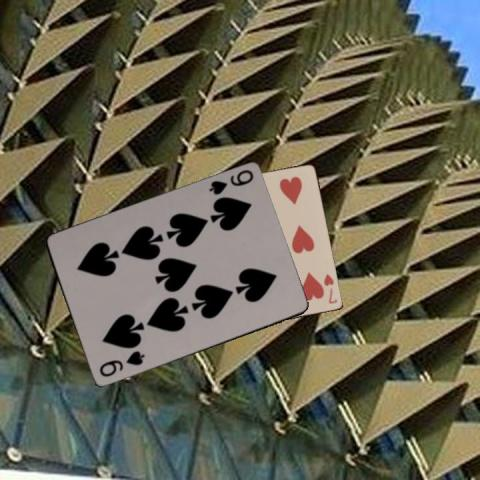7h: (321, 272, 339, 306)
9s: (96, 348, 146, 379), (206, 166, 256, 196)
